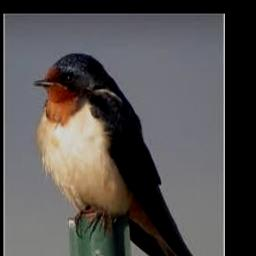Swallow: (33, 52, 209, 256)
